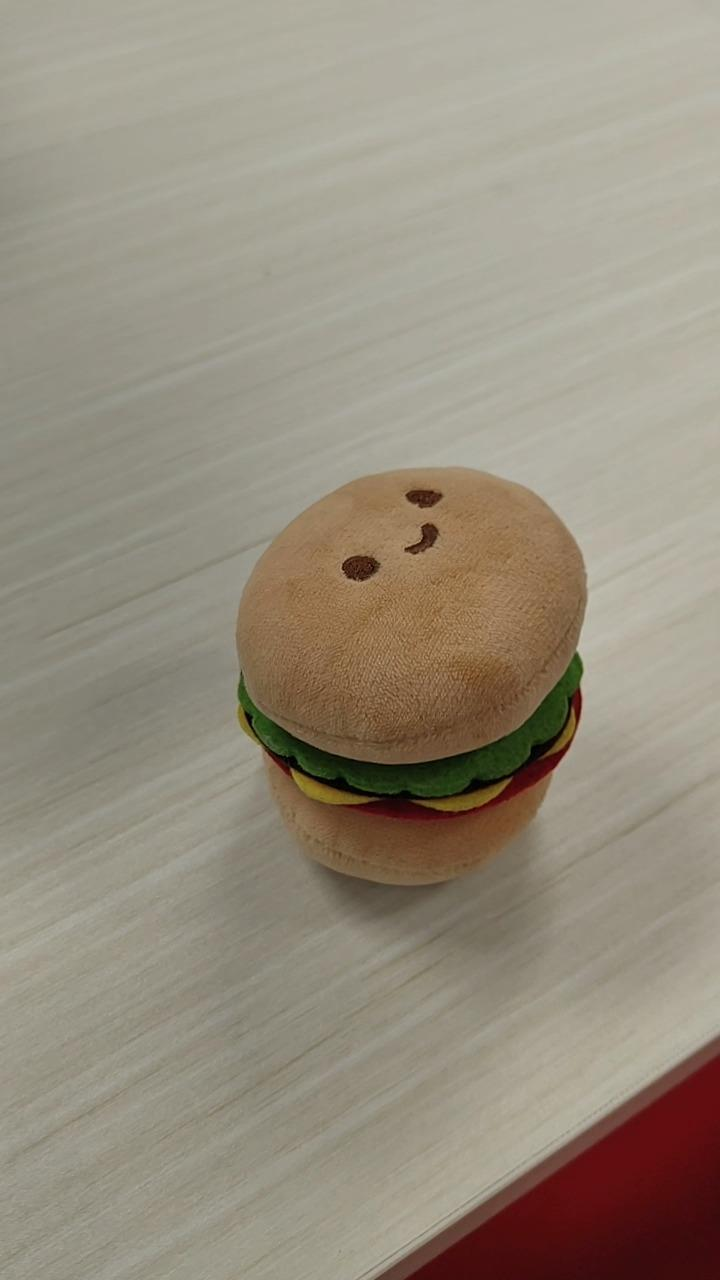hamburger: (233, 463, 588, 888)
